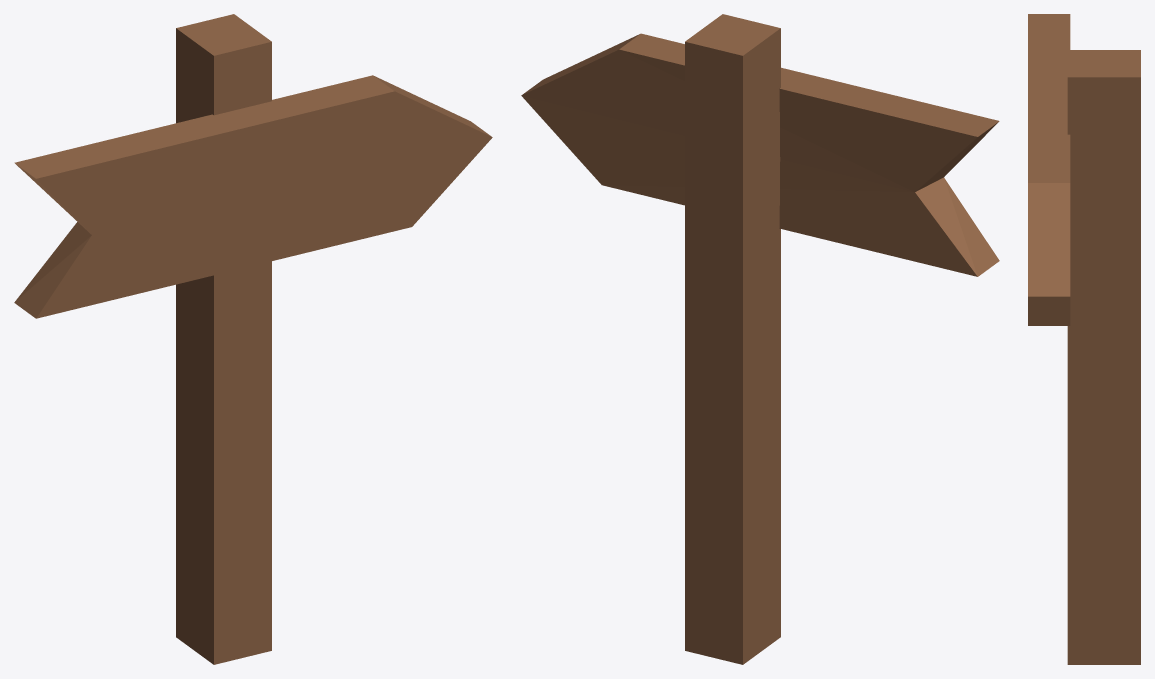
Rendered from direction_sign2.fbx.
3 renders of one model, left to right at view 1: azimuth 30°, elevation 25°; view 2: azimuth 150°, elevation 25°; view 3: azimuth 270°, elevation 25°, orthographic. The views are drawn at different scales.
Visible parts, largest first — view 1: direction_sign2; view 2: direction_sign2; view 3: direction_sign2.
Part boxes in pixels (x1,y1,x2,y2): direction_sign2: (14,14,492,664); direction_sign2: (521,14,999,664); direction_sign2: (1028,14,1140,664).
Bounding box in the file's own units: 157 × 200 × 34.87.
